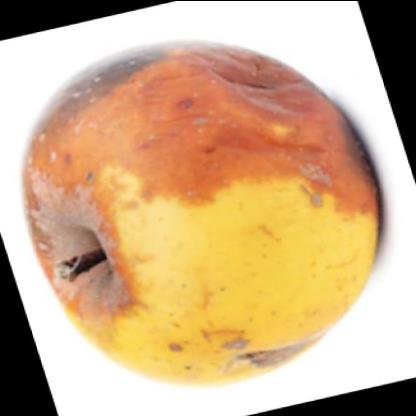defect: (42, 33, 372, 219), (158, 302, 338, 390), (27, 129, 125, 238)
